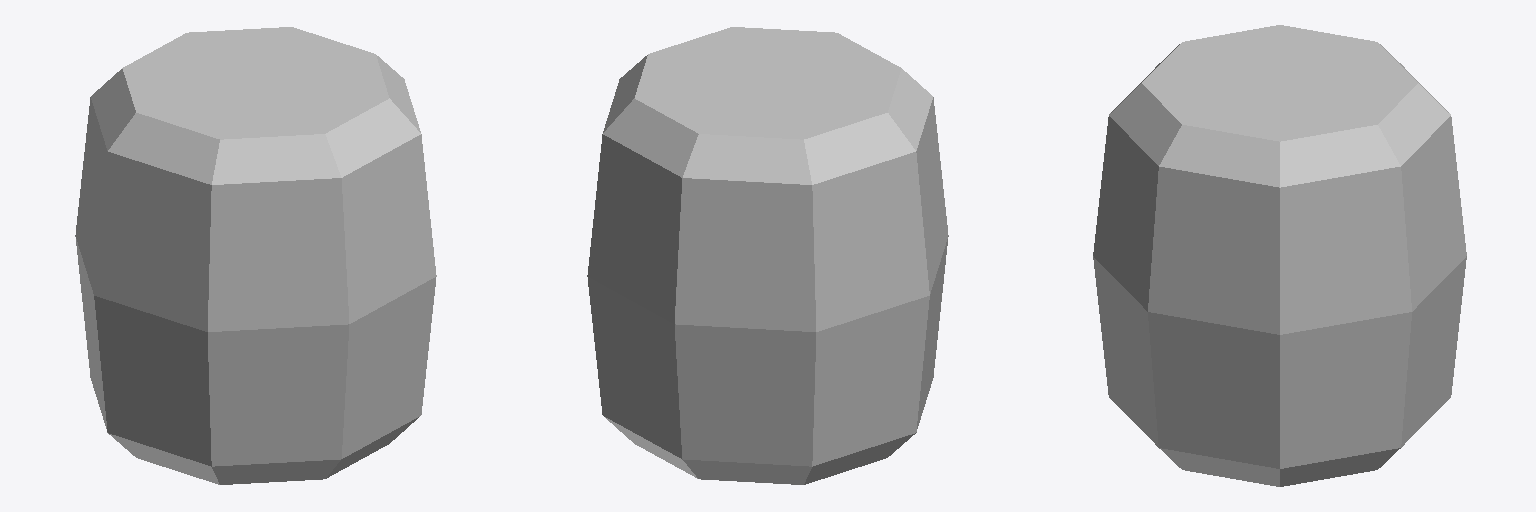
Rendered from barrel_002.obj.
The picture shows the model from 3 angles: view 1: azimuth 30°, elevation 25°; view 2: azimuth 150°, elevation 25°; view 3: azimuth 270°, elevation 25°; orthographic projection.
Parts seen in each view (by area): view 1: barrel_002_Cylinder.003; view 2: barrel_002_Cylinder.003; view 3: barrel_002_Cylinder.003.
Boxes of the visible parts, x1,y1,x2,y2 form: barrel_002_Cylinder.003: [75, 27, 436, 484]; barrel_002_Cylinder.003: [587, 27, 948, 484]; barrel_002_Cylinder.003: [1093, 25, 1466, 486].
Bounding box in the file's own units: 0.8575 × 0.8742 × 0.8575.